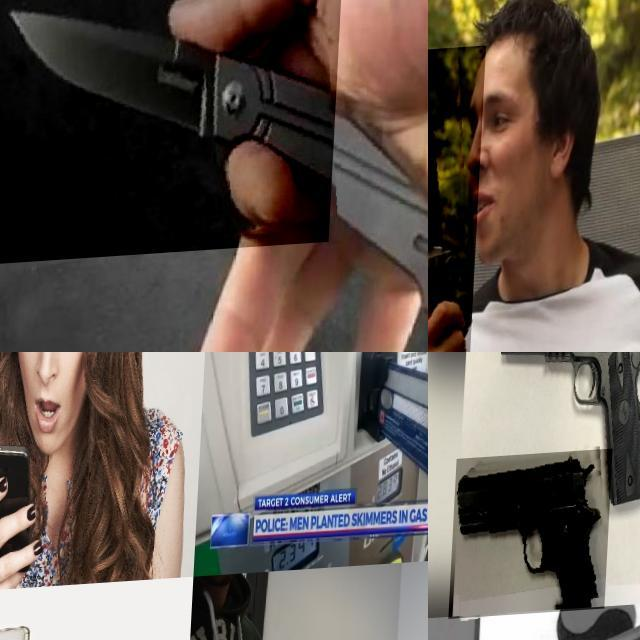-: (0, 0, 345, 265), (428, 50, 487, 352)
gun-knife-thesis - v11 Yolov5 augmented: (452, 452, 614, 620), (488, 352, 640, 517)
